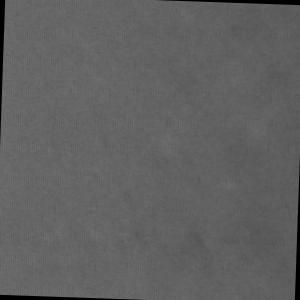Wrinkle: (17, 69, 175, 290), (114, 1, 288, 200)
